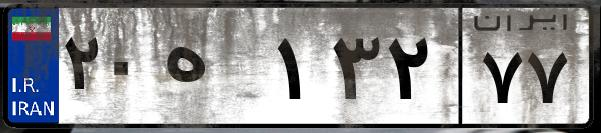0: (110, 28, 158, 98)
1: (270, 28, 330, 110)
2: (385, 28, 445, 110), (57, 26, 110, 100)
3: (330, 28, 385, 110)
7: (475, 38, 525, 113), (525, 38, 570, 115)
ه: (158, 20, 270, 120)
